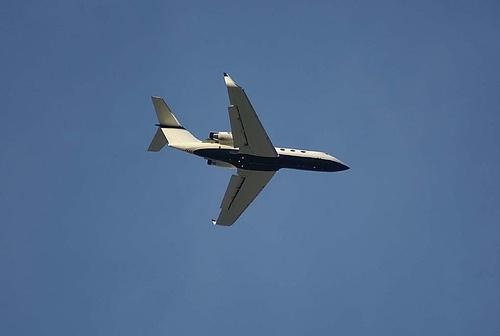aeroplane: (148, 71, 351, 229)
